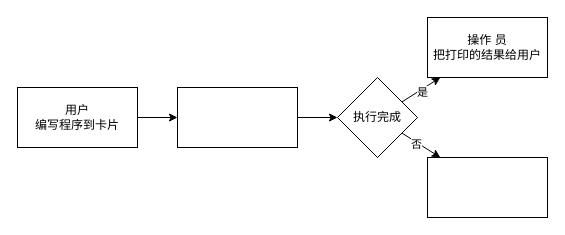
Some shapes in this 565 by 235 pixel diagram are drawn without their labels. Each missing label, with the centre of its shape:
操作员 把卡片输入计算机: pixel 237 117
操作员终止程序: pixel 487 187
